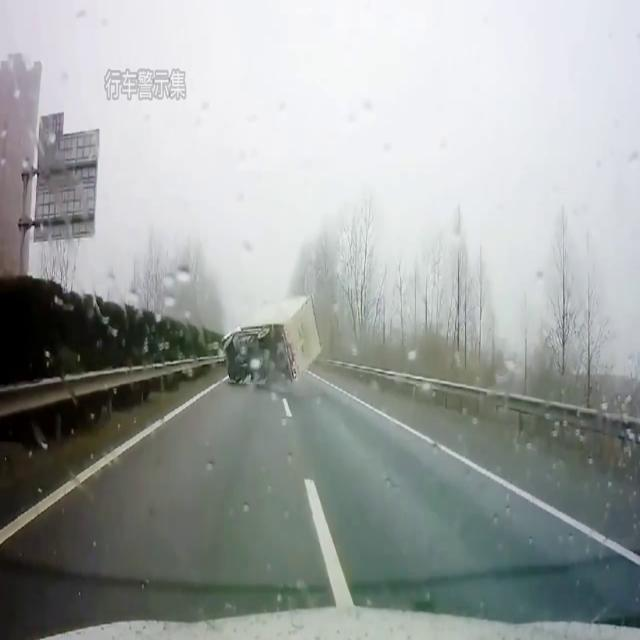accident: (210, 292, 326, 396)
